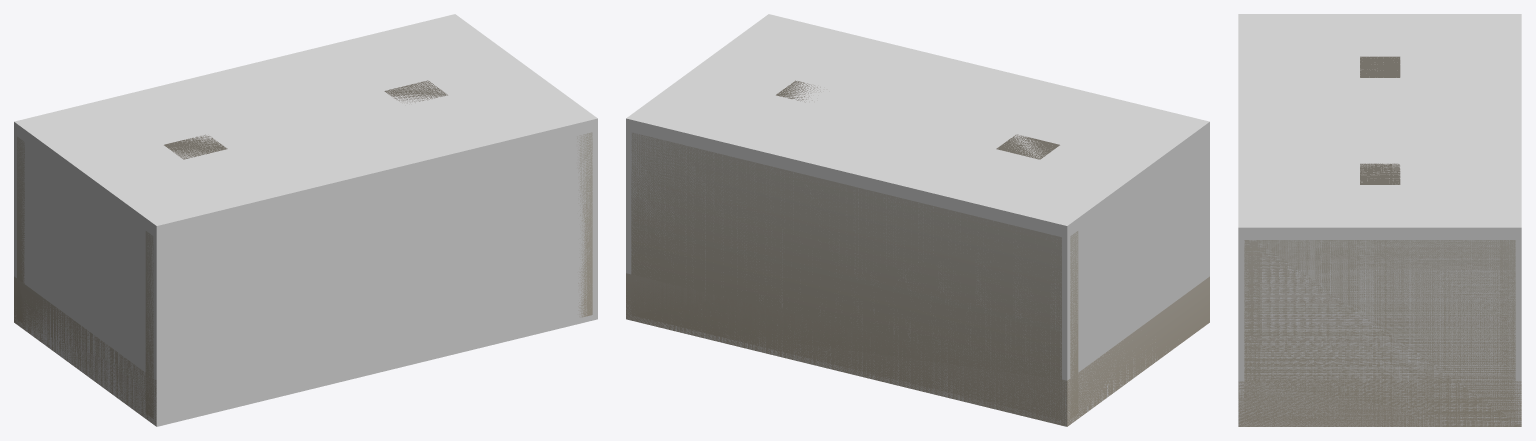
Rendered from KIT_SF_UDrain_End_B.glb.
The picture shows the model from 3 angles, left to right: view 1: azimuth 30°, elevation 25°; view 2: azimuth 150°, elevation 25°; view 3: azimuth 270°, elevation 25°; orthographic projection.
Visible parts, largest first — view 1: KIT_SF_UDrain_End_B_COL, KIT_SF_UDrain_End_B; view 2: KIT_SF_UDrain_End_B_COL, KIT_SF_UDrain_End_B; view 3: KIT_SF_UDrain_End_B_COL, KIT_SF_UDrain_End_B.
Boxes of the visible parts, <box> form: KIT_SF_UDrain_End_B_COL: <box>14,14,597,426</box>; KIT_SF_UDrain_End_B: <box>14,80,592,425</box>; KIT_SF_UDrain_End_B_COL: <box>626,14,1209,426</box>; KIT_SF_UDrain_End_B: <box>626,80,1209,426</box>; KIT_SF_UDrain_End_B_COL: <box>1238,14,1521,426</box>; KIT_SF_UDrain_End_B: <box>1238,56,1521,426</box>.
Size of what is drawn, in the model's own units: 1 by 0.435 by 0.5603.
